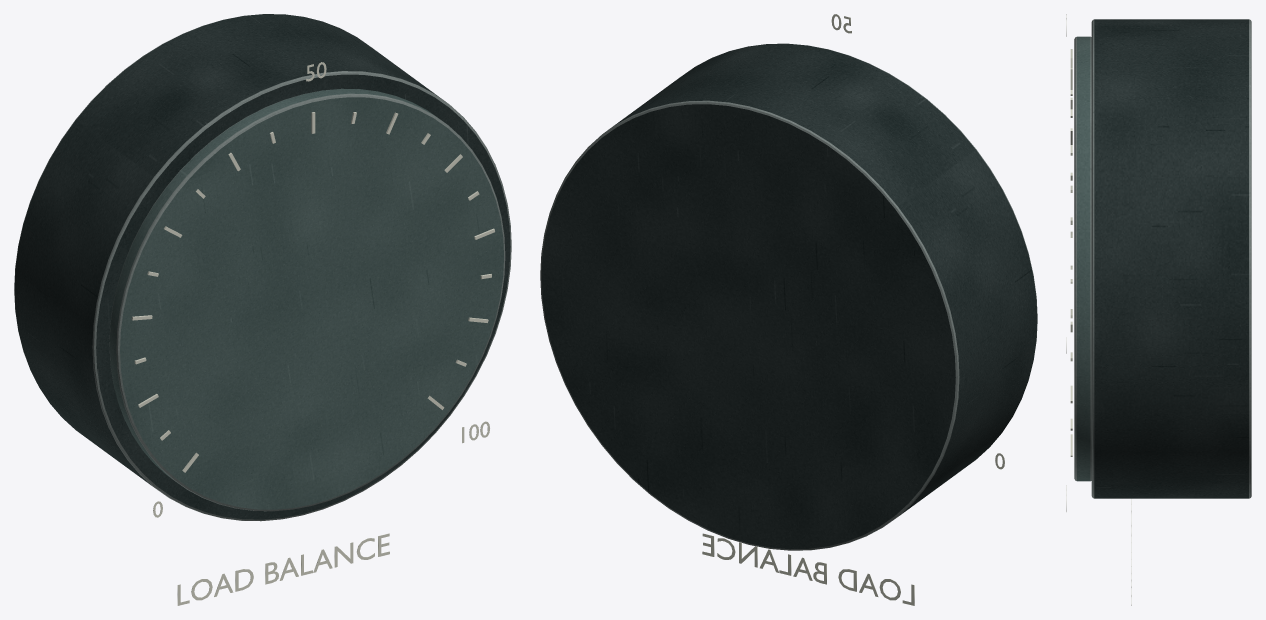
File: BALANCE_Housing.fbx
The picture shows the model from 3 angles, left to right: view 1: azimuth 30°, elevation 25°; view 2: azimuth 150°, elevation 25°; view 3: azimuth 270°, elevation 25°; orthographic projection.
Visible parts, largest first — view 1: BALANCE_Housing__Visual; view 2: BALANCE_Housing__Visual; view 3: BALANCE_Housing__Visual.
Boxes of the visible parts, x1,y1,x2,y2 form: BALANCE_Housing__Visual: (14, 14, 511, 605); BALANCE_Housing__Visual: (540, 14, 1037, 605); BALANCE_Housing__Visual: (1066, 14, 1251, 605).
Bounding box in the file's own units: 0.36 × 0.4442 × 0.1392.
